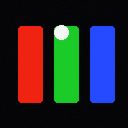2 circle: (54, 25, 68, 39)
